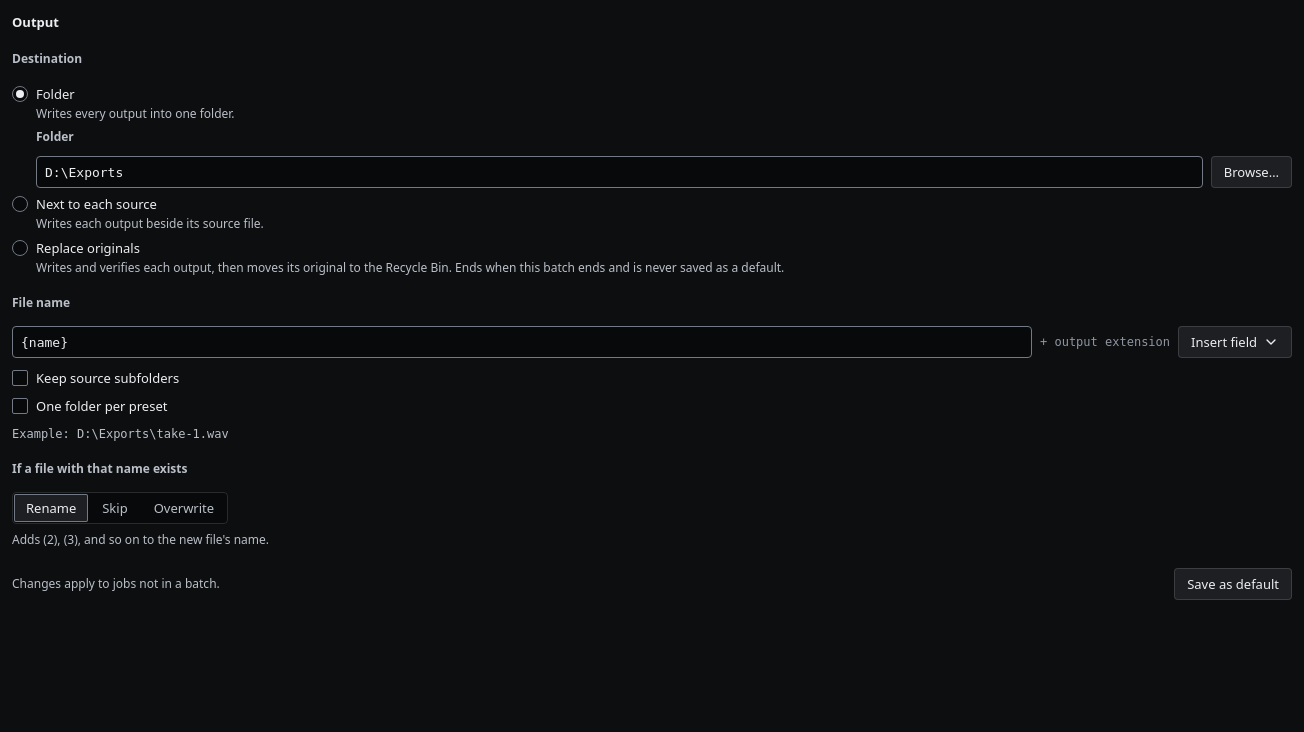
OutputPolicyPanel › shows main's refusal inline under the folder and clears it on typing
Replace the text in the field named "Folder" below "Writes every output into one folder." with "Exports": coordinates (619, 172) x1=36 y1=156 x2=1203 y2=188
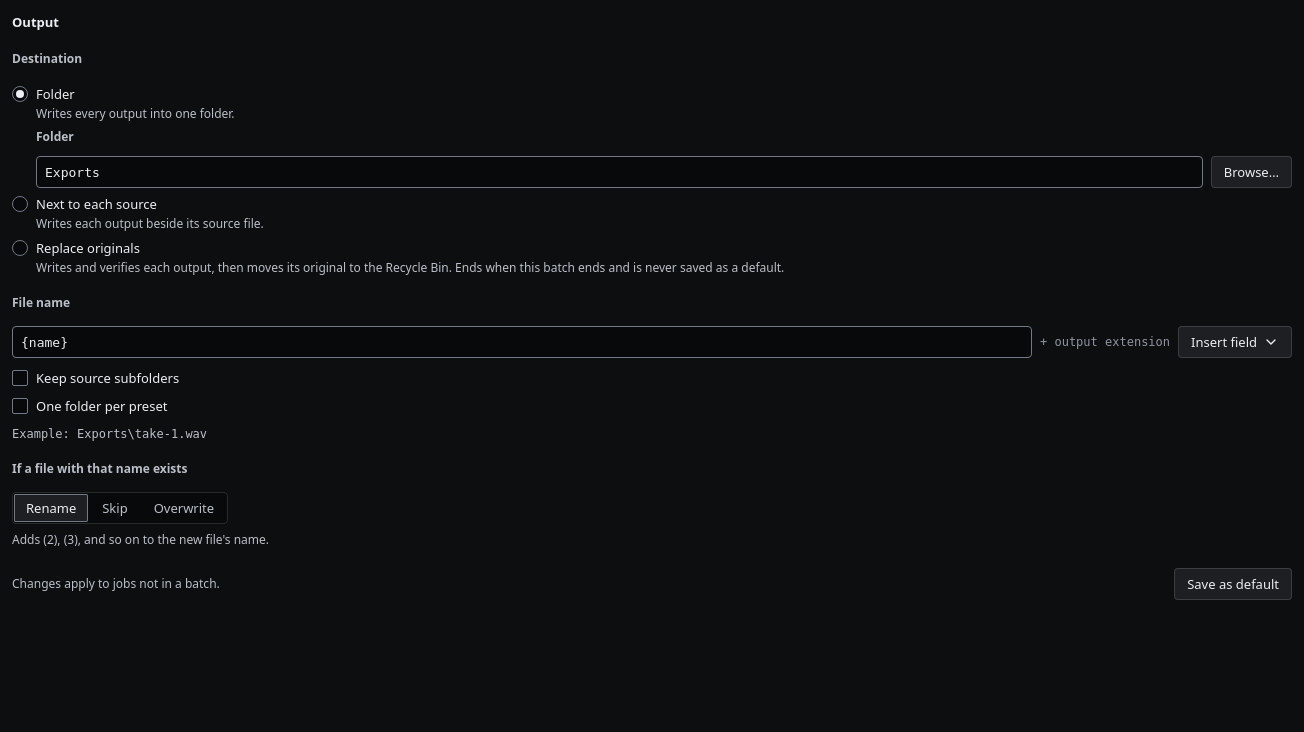
Leave the field named "Folder" below "Writes every output into one folder.", box x1=36 y1=156 x2=1203 y2=188
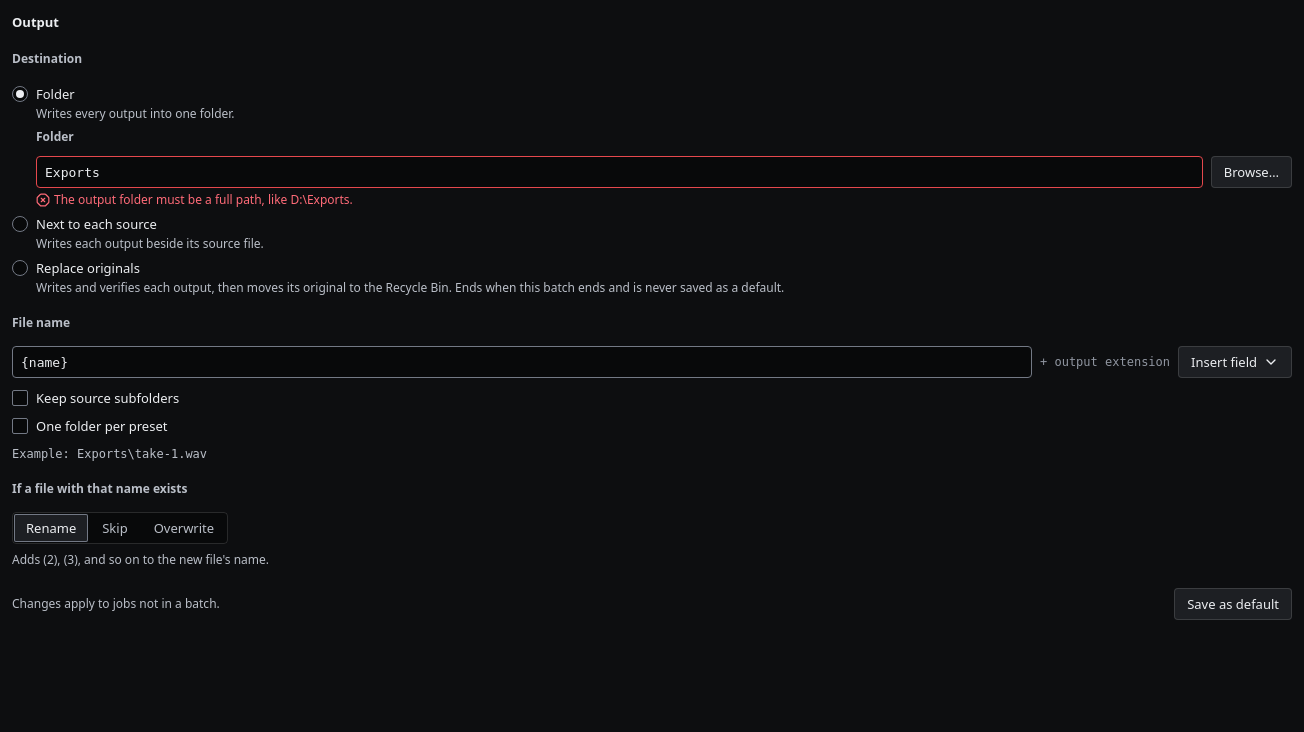
Expected: the text "The output folder must be a full path, like D:\\Exports." is shown, x1=54 y1=192 x2=353 y2=208
Replace the text in the field named "Folder" below "Writes every output into one folder." with "D:\\Exports2": coordinates (619, 172) x1=36 y1=156 x2=1203 y2=188
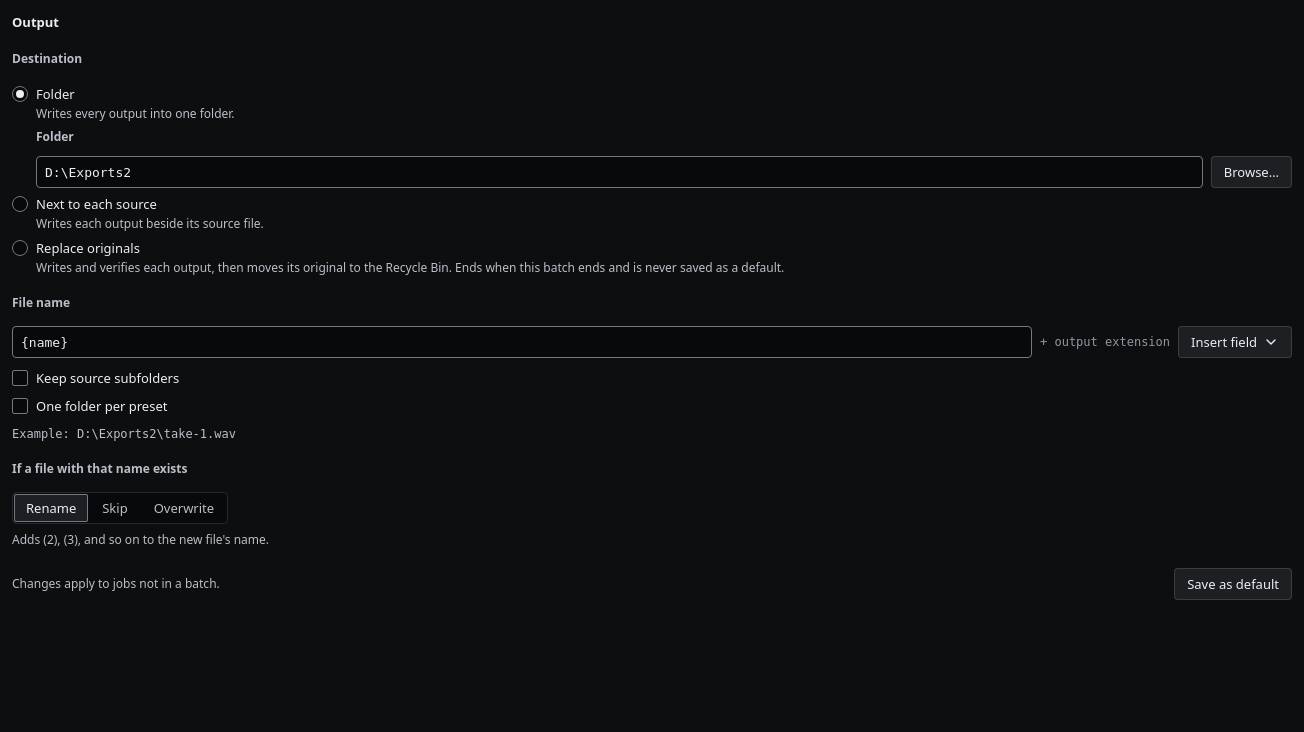
Expected: the text "The output folder must be a full path, like D:\\Exports." is gone
